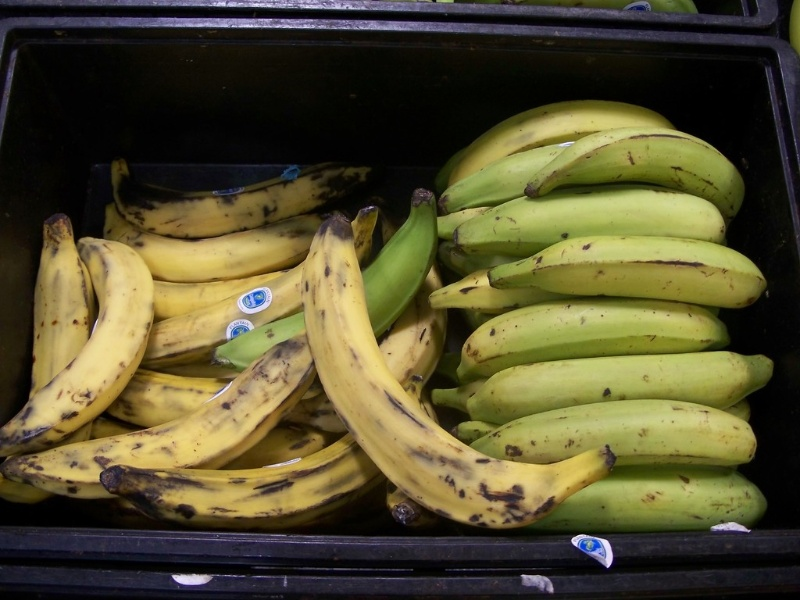banana: (297, 200, 621, 531), (8, 212, 162, 452), (459, 112, 750, 211), (105, 158, 387, 238)
